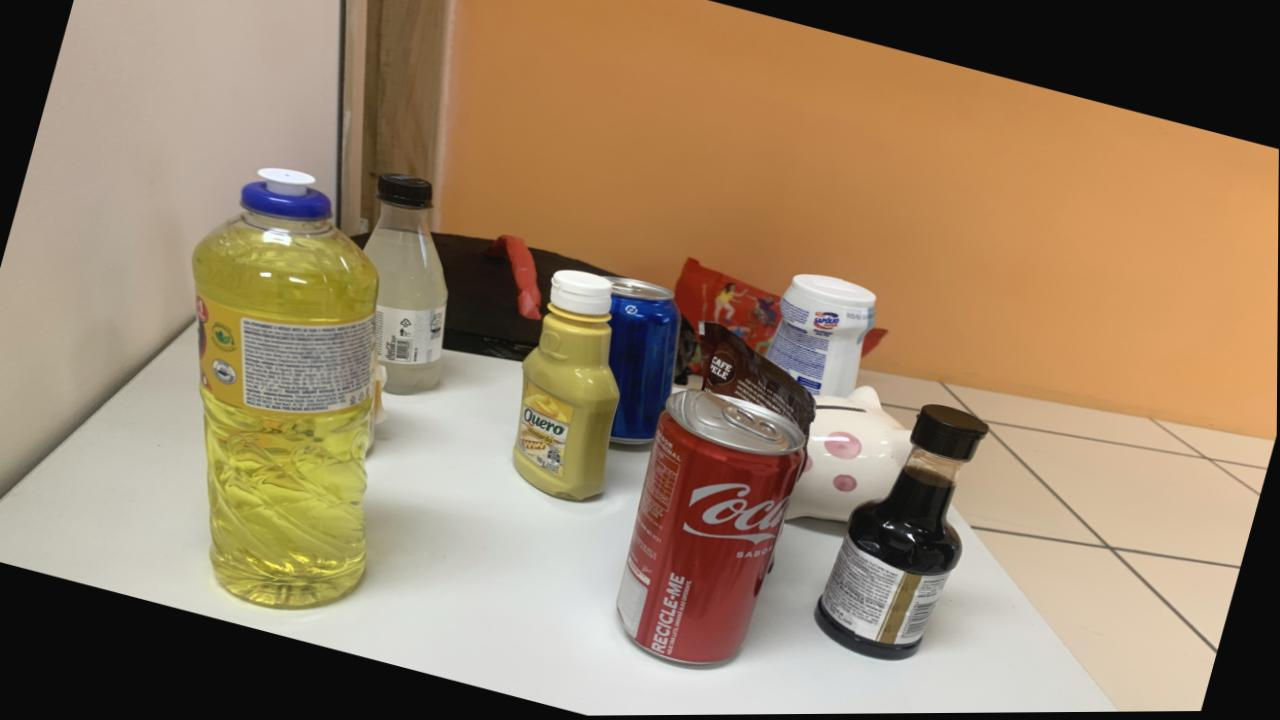Cleaner-Cleanup_Items: (767, 275, 877, 399)
Coffee-Pantry_Items: (699, 322, 817, 437)
Coke-Drinks: (617, 391, 806, 667)
Detergent-Cleanup_Items: (192, 169, 379, 609)
English_Sauce-Pantry_Items: (815, 407, 988, 661)
Mustard-Pantry_Items: (513, 271, 620, 502)
Pig_Safe-Miscellaneous: (787, 387, 913, 523)
Soda-Drinks: (364, 174, 449, 395)
Tonic-Drinks: (607, 277, 682, 446)
